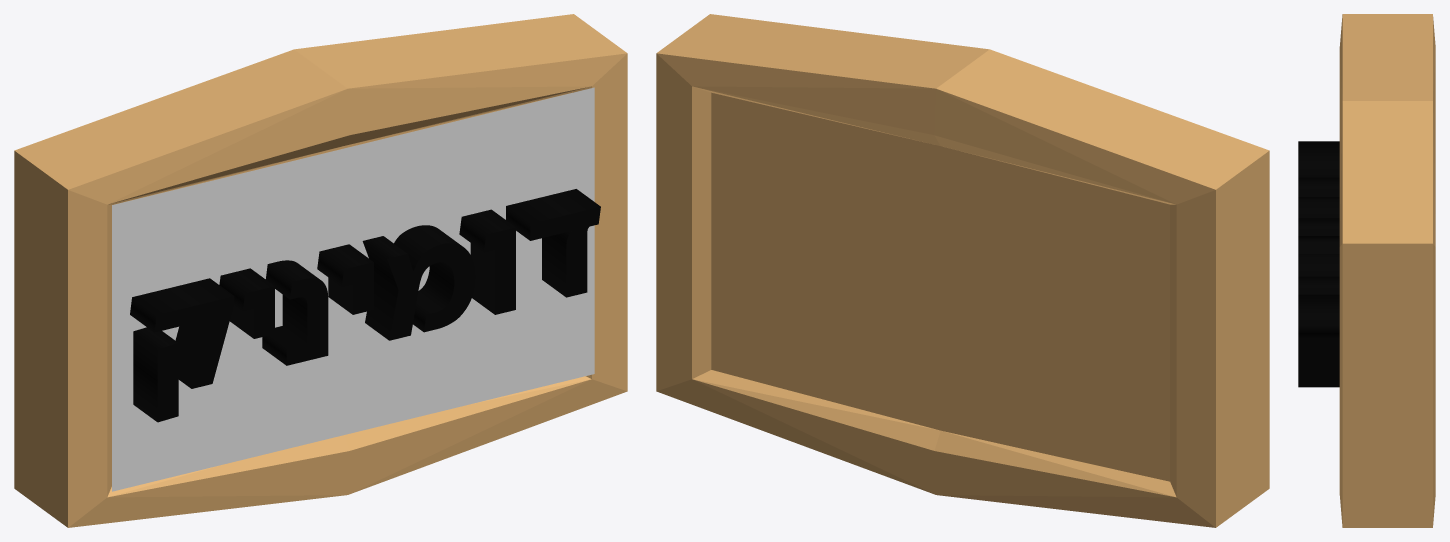
File: Nameplate.glb
3 renders of one model, left to right at view 1: azimuth 30°, elevation 25°; view 2: azimuth 150°, elevation 25°; view 3: azimuth 270°, elevation 25°, orthographic. The views are drawn at different scales.
Parts seen in each view (by area): view 1: Coin, Plaque, path179458; view 2: Coin; view 3: Coin, path179458.
Part boxes in pixels (box(x1,y1,x2,y2)): Coin: box(14, 14, 627, 527); Plaque: box(112, 87, 594, 491); path179458: box(130, 189, 600, 422); Coin: box(656, 14, 1269, 527); Coin: box(1339, 14, 1435, 527); path179458: box(1298, 141, 1339, 387).
Size of the model in its own units: 1.41 by 0.9763 by 0.3564.
